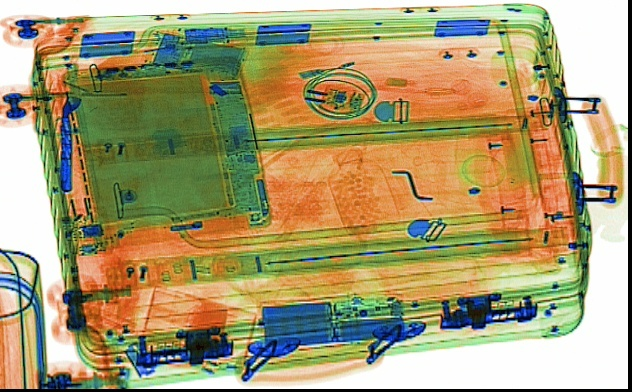powerbank: (257, 288, 410, 355)
